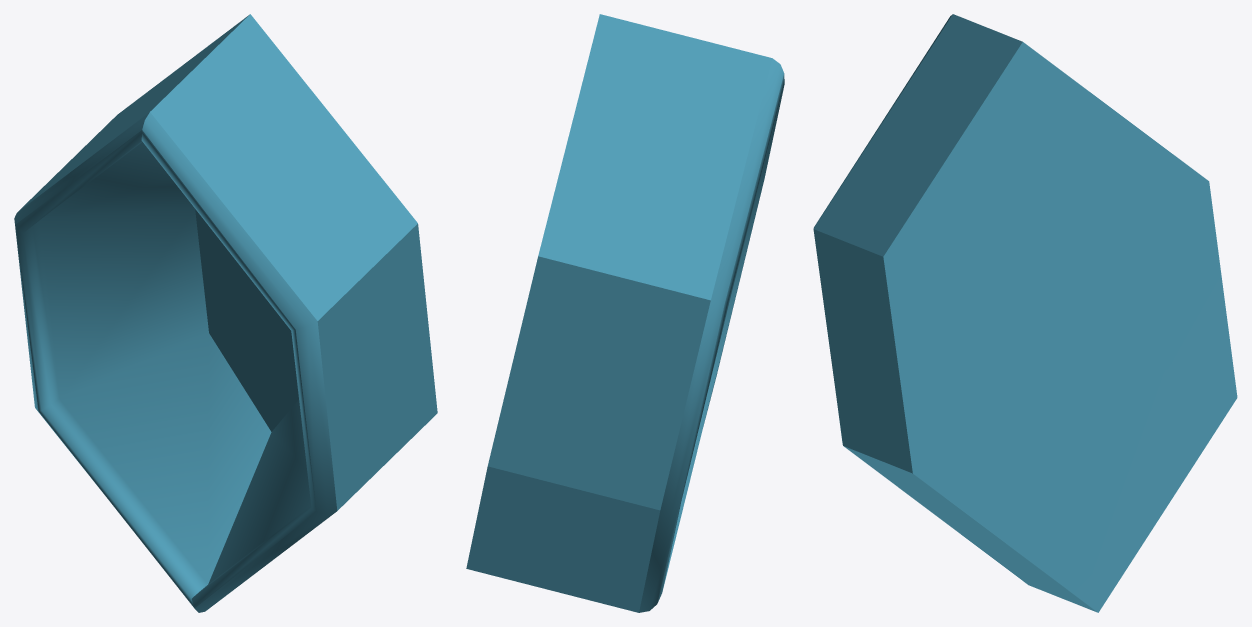
File: TL4_8shapes_Hex_Classic_Metal.001 2.glb
3 renders of one model, left to right at view 1: azimuth 30°, elevation 25°; view 2: azimuth 150°, elevation 25°; view 3: azimuth 270°, elevation 25°, orthographic. The views are drawn at different scales.
Parts seen in each view (by area): view 1: TL4_8shapes_Hex_Classic_Metal.001; view 2: TL4_8shapes_Hex_Classic_Metal.001; view 3: TL4_8shapes_Hex_Classic_Metal.001.
Part boxes in pixels (bbox=[...]): TL4_8shapes_Hex_Classic_Metal.001: bbox=[14, 14, 437, 612]; TL4_8shapes_Hex_Classic_Metal.001: bbox=[466, 14, 784, 612]; TL4_8shapes_Hex_Classic_Metal.001: bbox=[813, 14, 1237, 612].
Size of the model in its own units: 0.4021 by 0.7304 by 0.4985.
